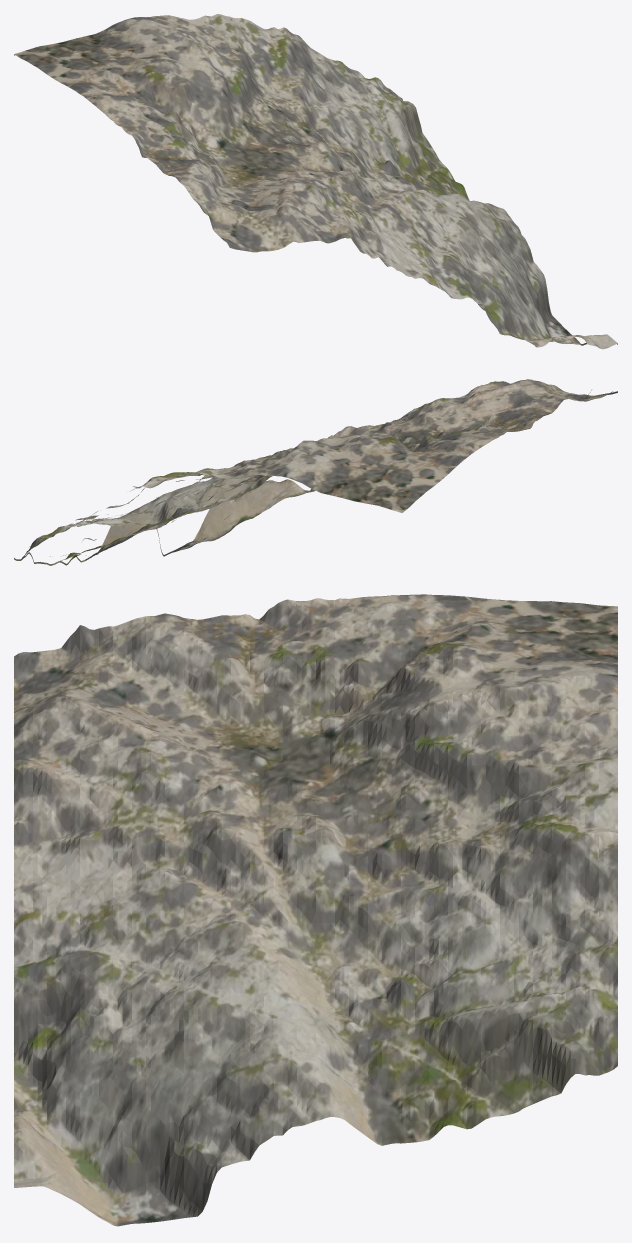
The picture shows the model from 3 angles, top to bottom: view 1: azimuth 30°, elevation 25°; view 2: azimuth 150°, elevation 25°; view 3: azimuth 270°, elevation 25°; orthographic projection. The views are drawn at different scales.
Size of the model in its own units: 250 by 164 by 241.
1 material, 1 textured.
